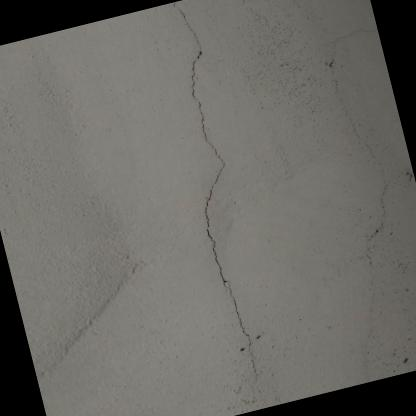crack: (182, 11, 258, 381)
